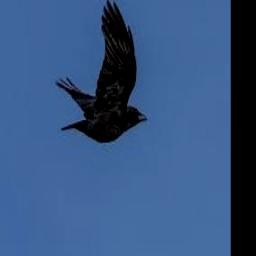Crow: (56, 0, 148, 142)
